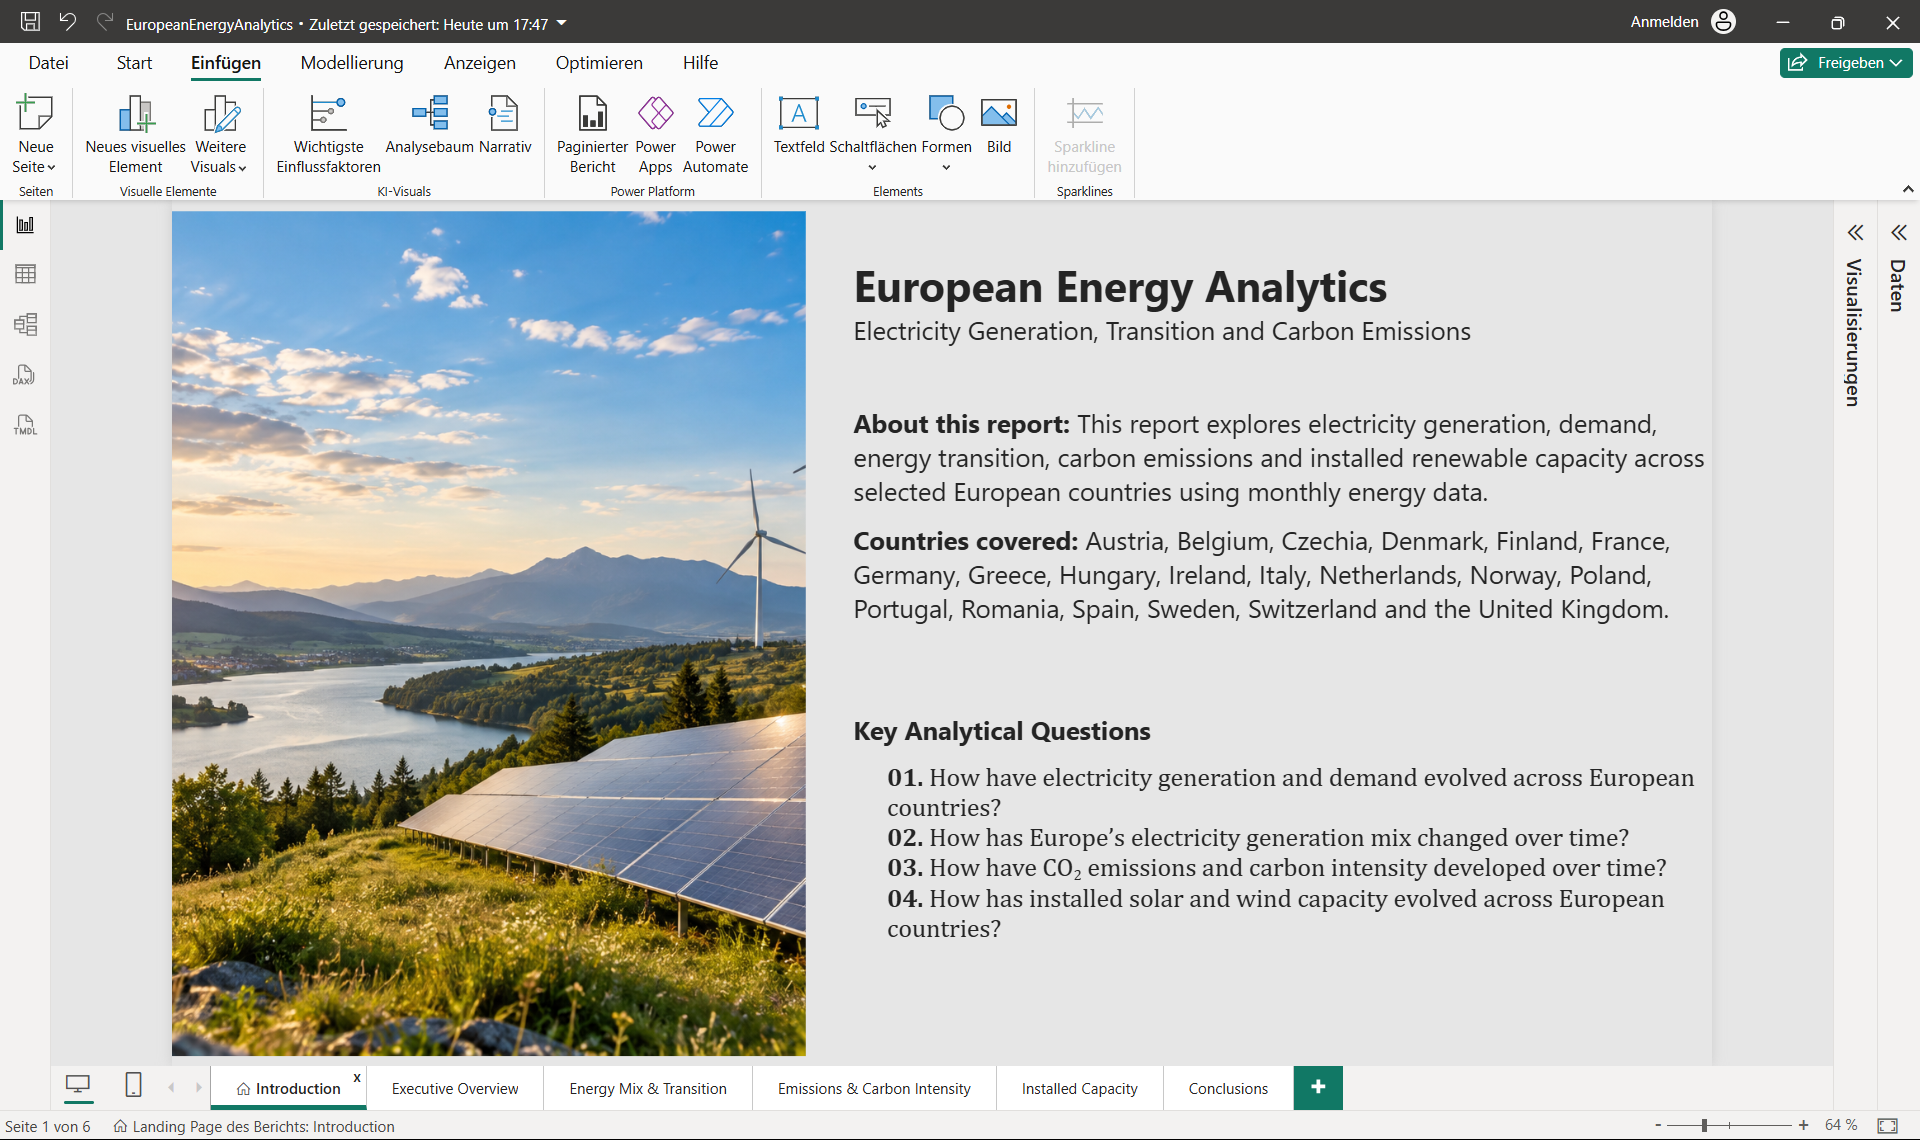

Layout of this report page (visuals, bound fields, positions):
{"tool":"powerbi","page":{"name":"Introduction","canvas":[1920,1080],"ordinal":0},"visuals":[{"type":"textbox","box":[849.6,14,1071,1053.8],"z":0},{"type":"image","box":[0,14,790.4,1053.8],"z":1000}]}

Visuals, with their boxes on the page's 1920x1080 design canvas (x1, y1, x2, y2). These are canvas units, not pixel positions in the 1920x1140 screenshot, which may show the page scaled, cropped or inside an application window:
textbox: region(850, 14, 1921, 1068)
image: region(0, 14, 790, 1068)
